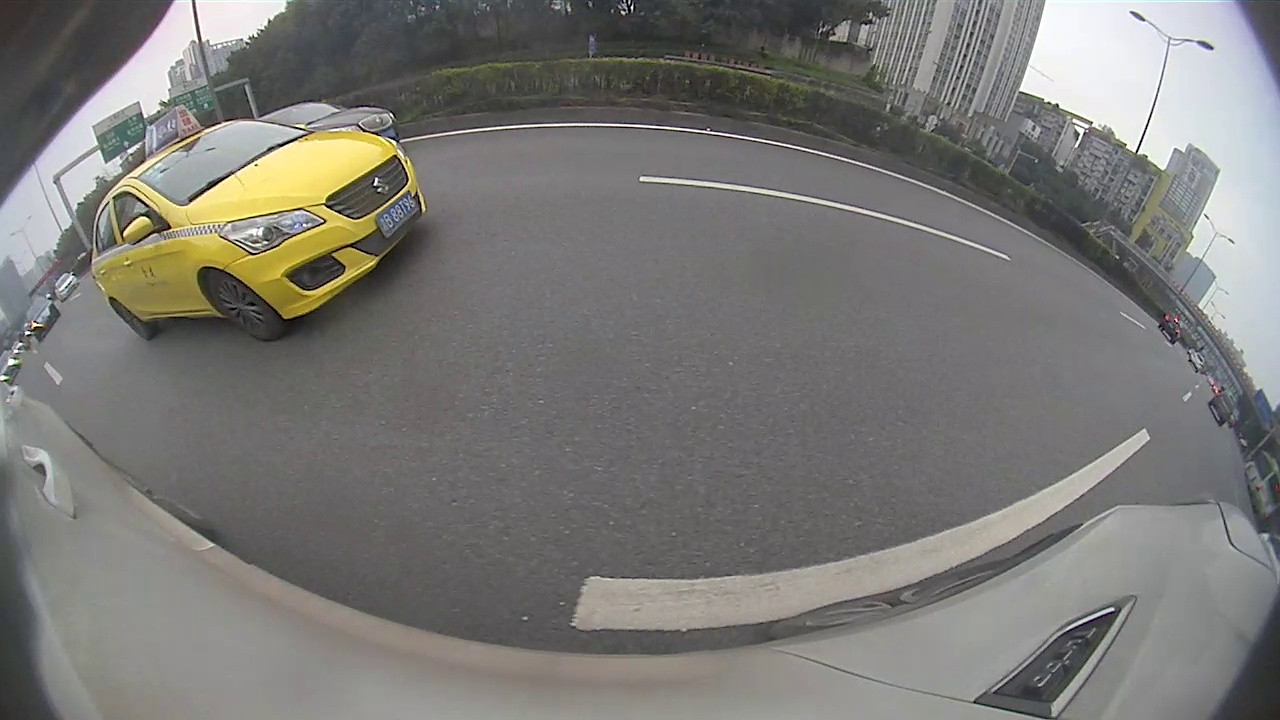car: (90, 117, 428, 342), (249, 99, 400, 147), (24, 295, 62, 343), (1209, 387, 1237, 426), (52, 272, 81, 301), (1159, 313, 1185, 345)
front: (206, 266, 290, 344)
rear: (109, 301, 162, 342)
